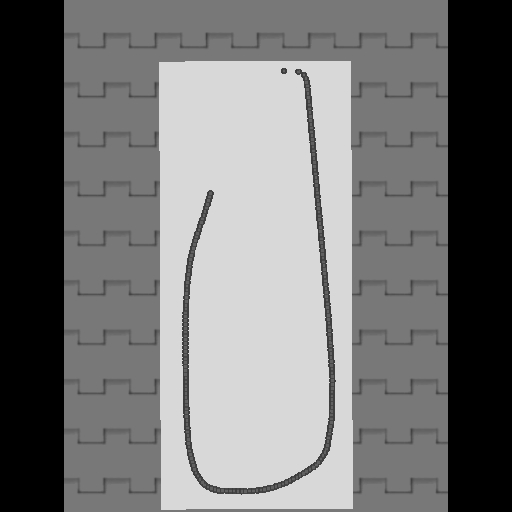Defect: (204, 76, 243, 189)
